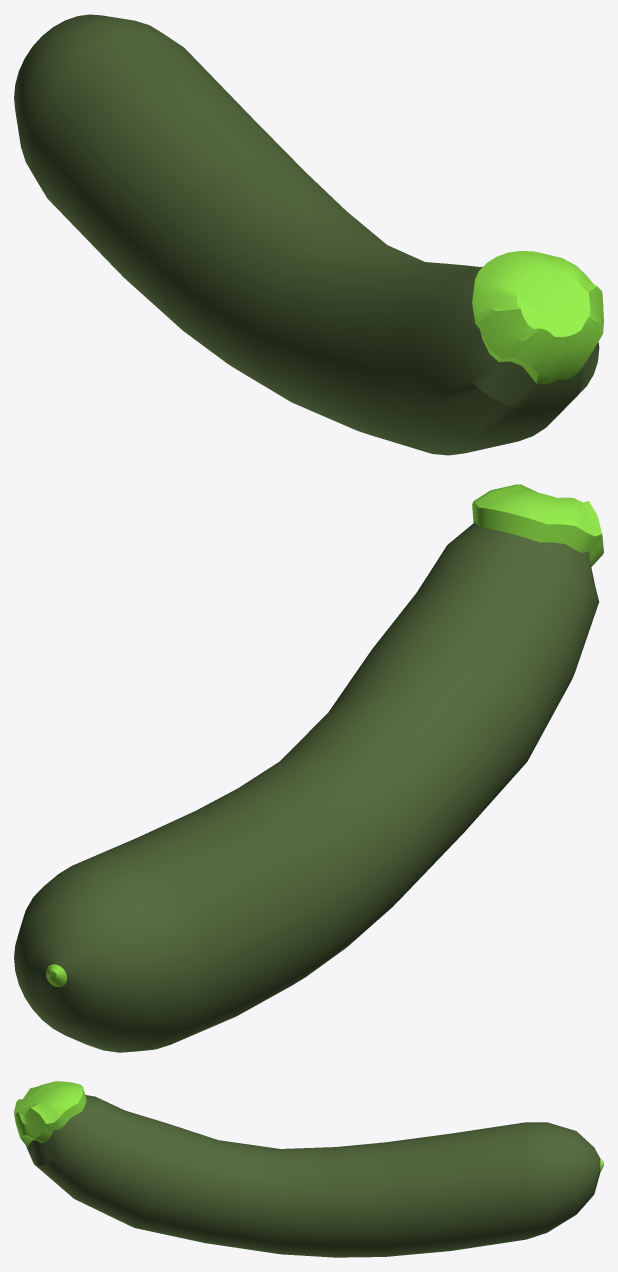
Rendered from Squash2.fbx.
The picture shows the model from 3 angles, top to bottom: view 1: azimuth 30°, elevation 25°; view 2: azimuth 150°, elevation 25°; view 3: azimuth 270°, elevation 25°; orthographic projection. The views are drawn at different scales.
Visible parts, largest first — view 1: Cylinder; view 2: Cylinder; view 3: Cylinder.
Part boxes in pixels (<box>): Cylinder: <box>14,14,603,455</box>; Cylinder: <box>14,484,603,1052</box>; Cylinder: <box>14,1081,603,1257</box>.
Size of the model in its own units: 89.6 by 450 by 138.
